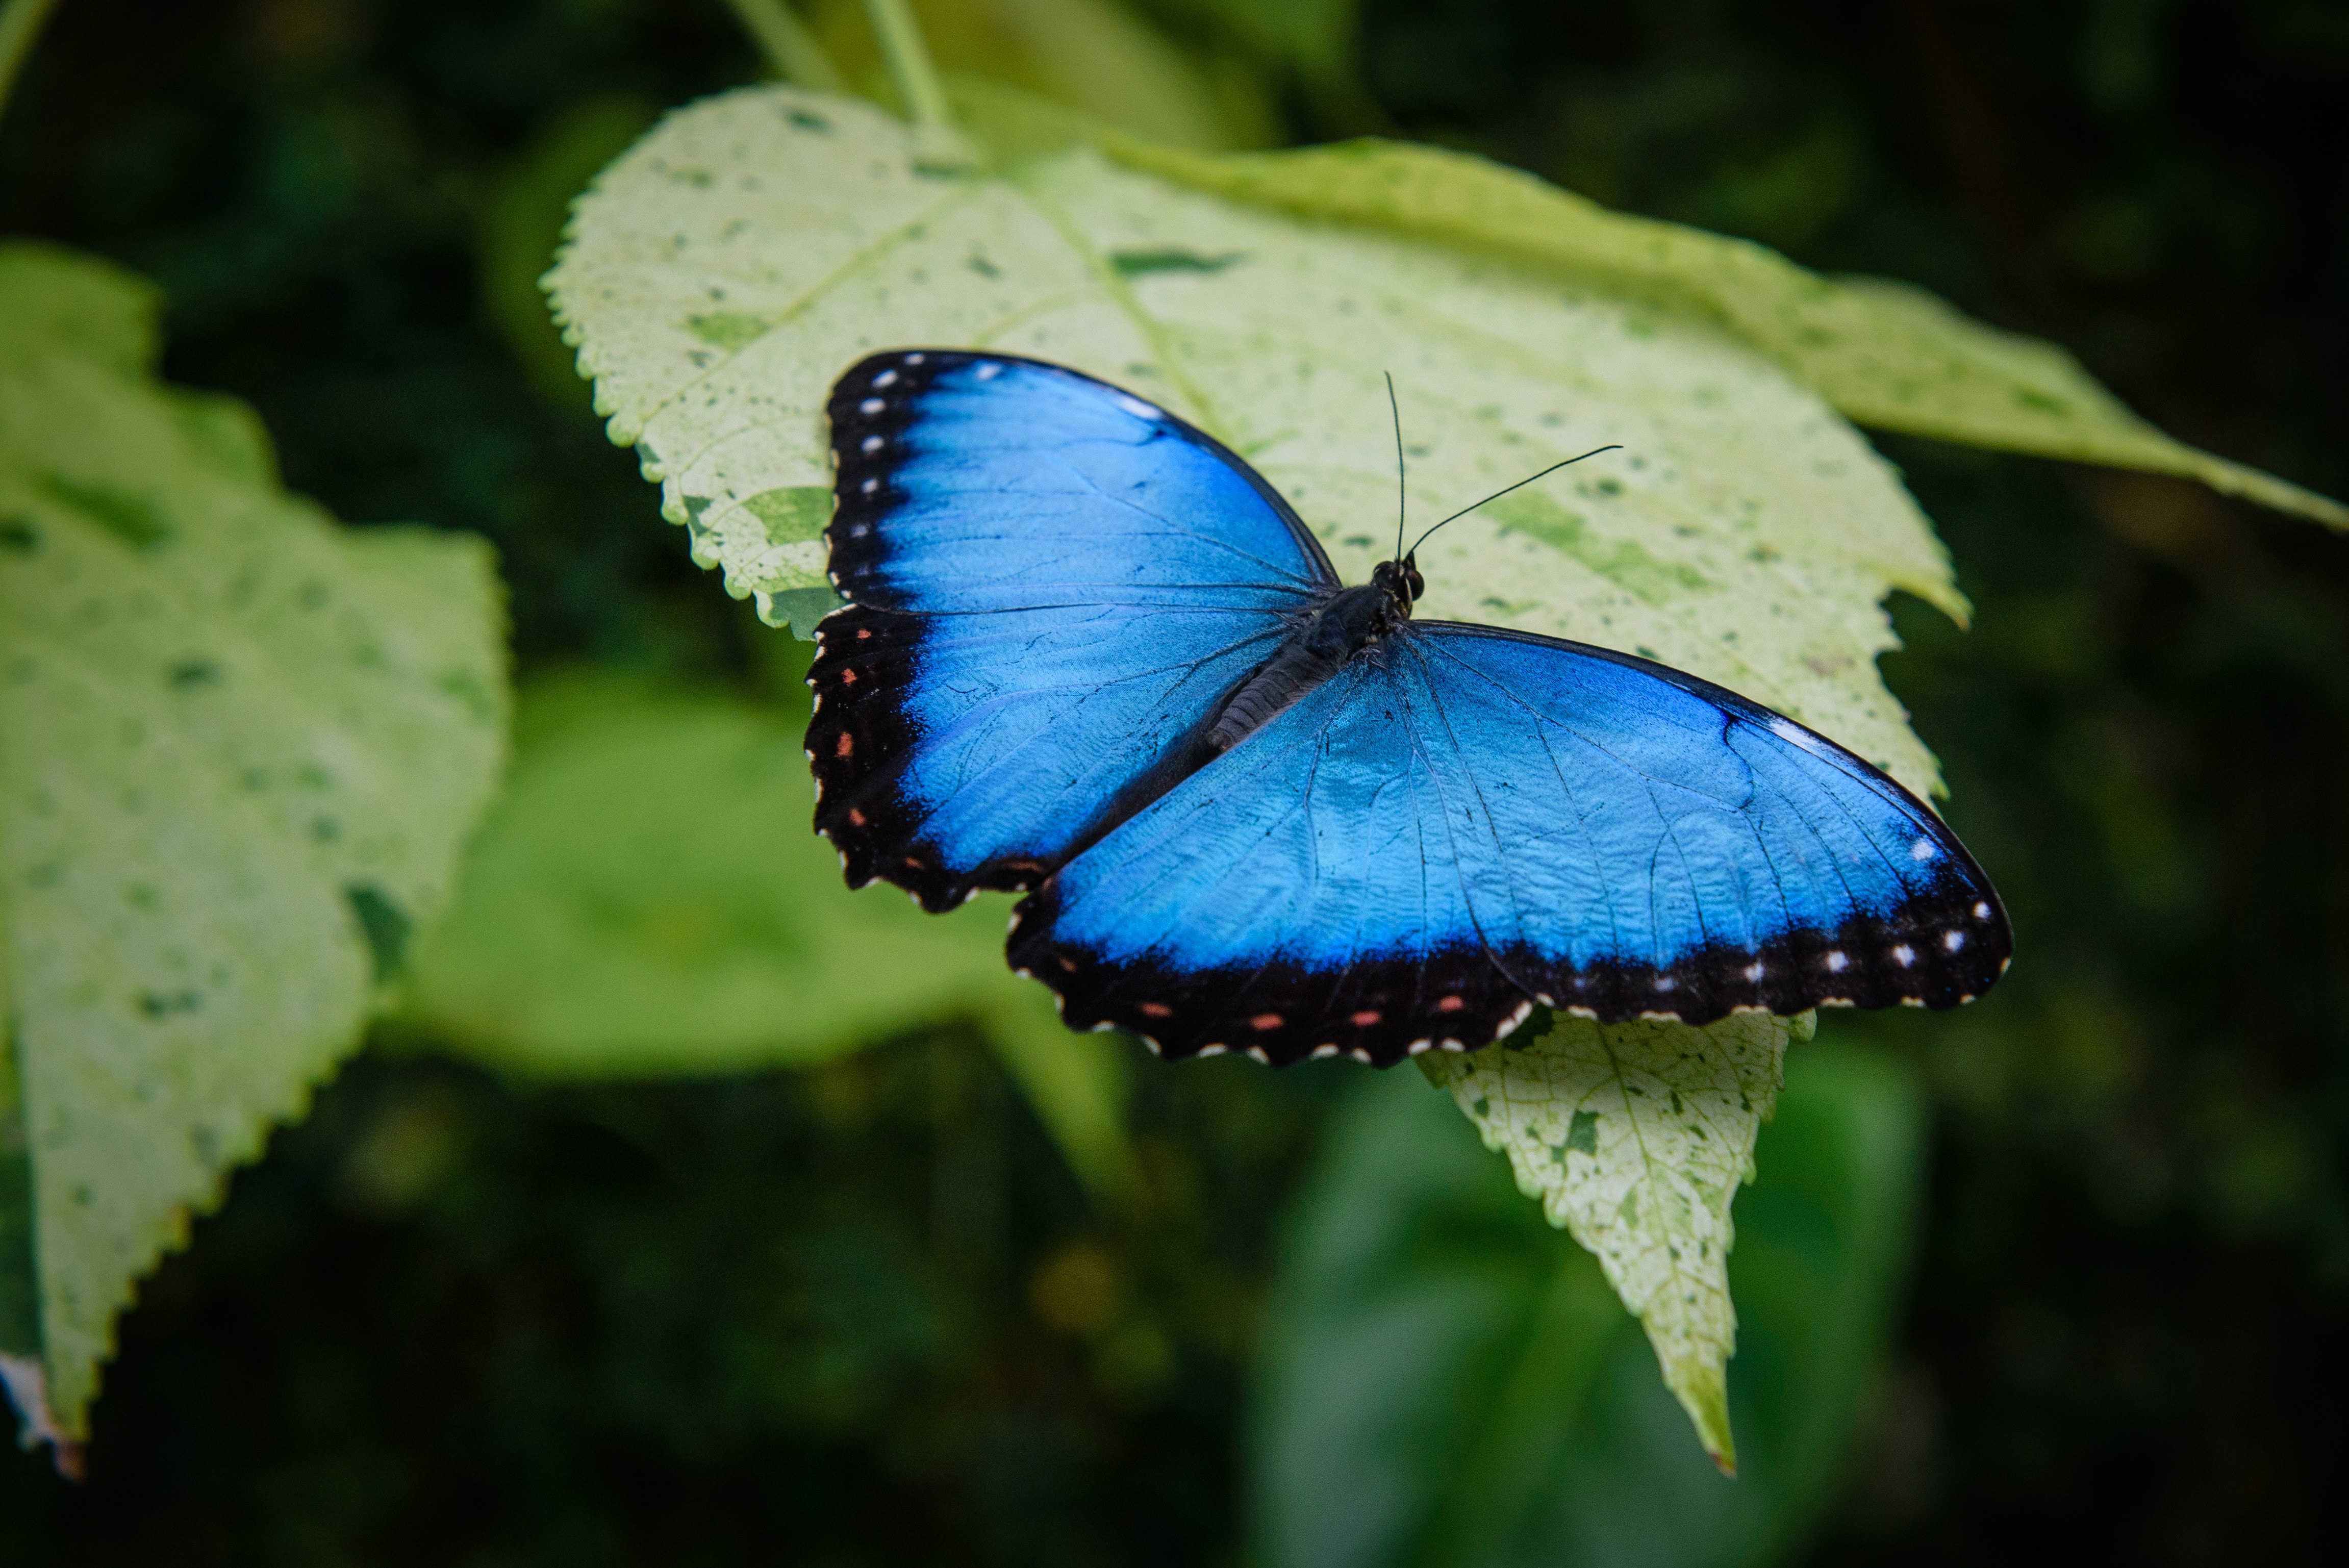Butterfly: (831, 336, 2034, 1057)
